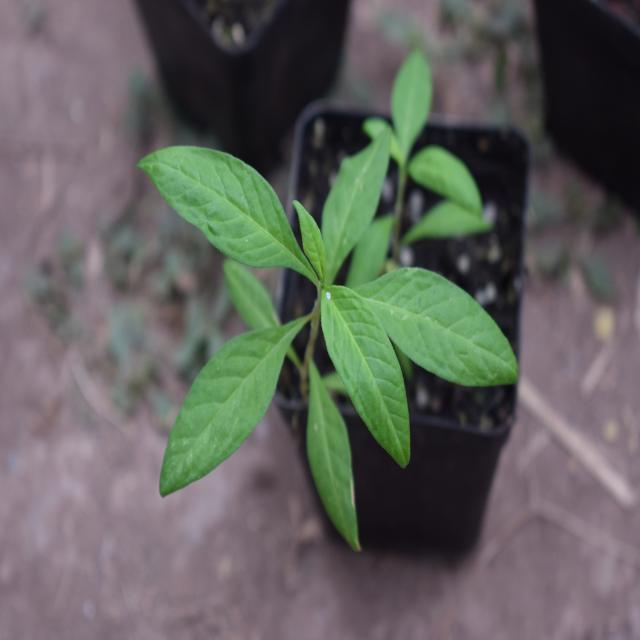white_smart_weed: (129, 124, 514, 529)
